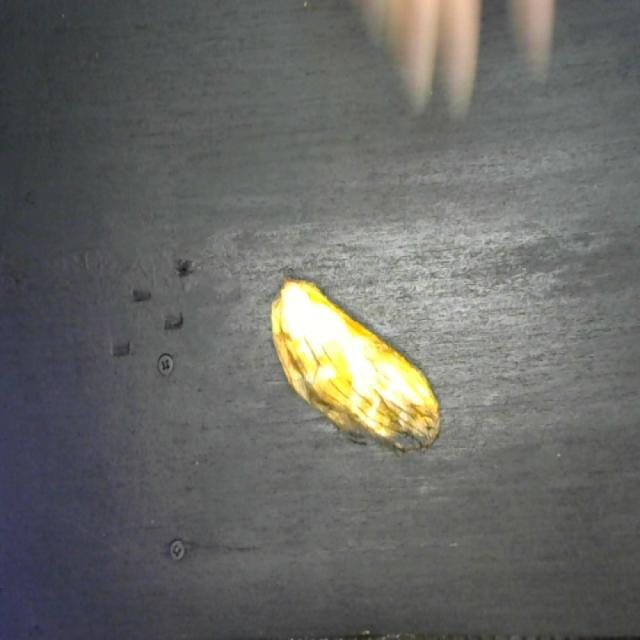biodegradable: (267, 269, 442, 455)
